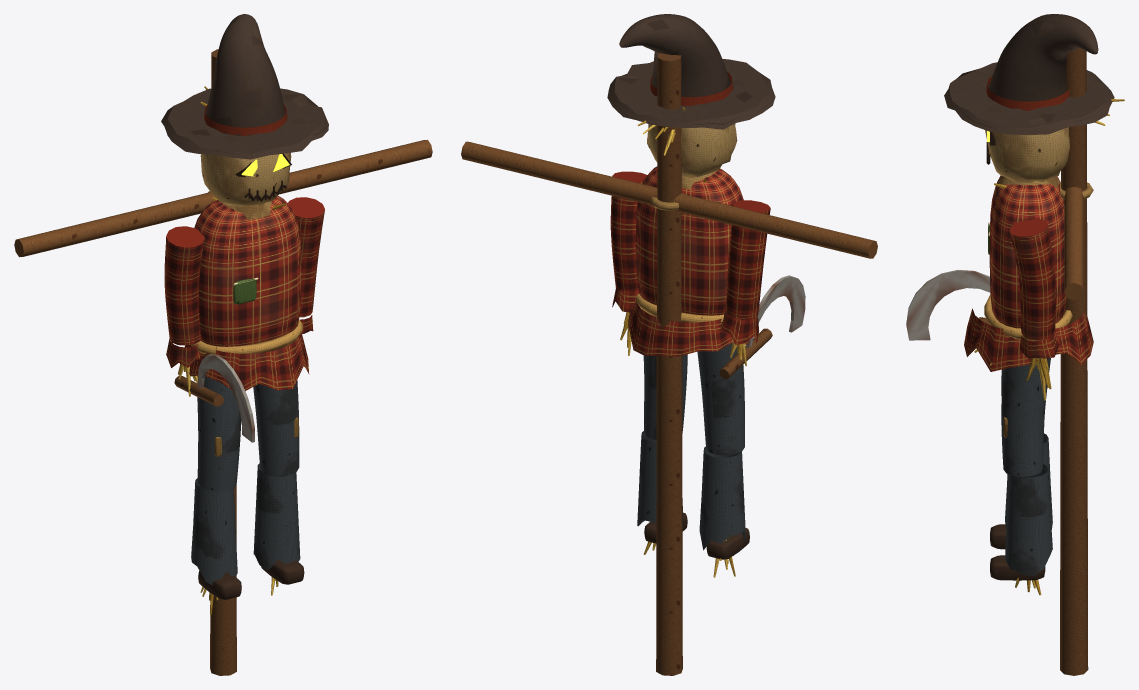
The model's file is 0ef1bd16-2e9a-47c5-a353-2d71a1caf7a7.glb.
3 renders of one model, left to right at view 1: azimuth 30°, elevation 25°; view 2: azimuth 150°, elevation 25°; view 3: azimuth 270°, elevation 25°, orthographic. The views are drawn at different scales.
Visible parts, largest first — view 1: Body, Head, Pole, LegR, LegL, ArmR, ArmL; view 2: Pole, Head, Body, LegR, ArmR, LegL, ArmL; view 3: Head, Pole, Body, LegL, ArmL, ArmR, LegR.
Boxes of the visible parts, <box> form: Body: <box>185,196,309,390</box>; Head: <box>161,14,328,219</box>; Pole: <box>14,49,432,675</box>; LegR: <box>191,376,241,614</box>; LegL: <box>253,380,304,595</box>; ArmR: <box>164,226,254,442</box>; ArmL: <box>288,197,324,339</box>; Pole: <box>461,53,877,675</box>; Head: <box>607,14,775,189</box>; Body: <box>628,166,748,356</box>; LegR: <box>697,343,749,577</box>; ArmR: <box>719,200,805,378</box>; LegL: <box>637,354,687,554</box>; ArmL: <box>610,171,647,355</box>; Head: <box>944,14,1124,187</box>; Pole: <box>1060,48,1093,675</box>; Body: <box>964,175,1093,371</box>; LegL: <box>990,358,1052,595</box>; ArmL: <box>1009,218,1061,400</box>; ArmR: <box>906,270,990,340</box>; LegR: <box>990,369,1052,549</box>.
Bounding box in the file's own units: 1.7 × 2.58 × 0.7739.
Materials: 10 (8 with a texture image).
